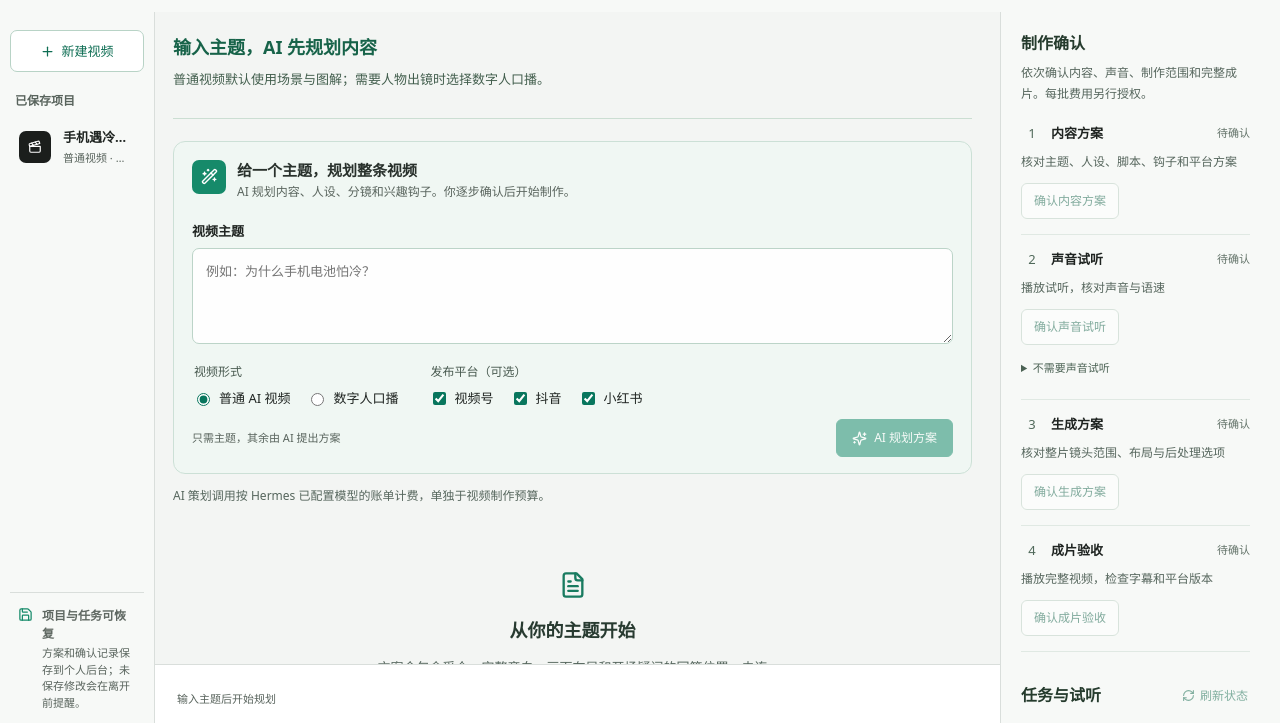
Test: Hermes 视频项目工作台 › 过期版本保存失败时保留编辑，提醒重新载入
Click the button "手机遇冷为什么掉电 普通视频 · 版本 2" at (77, 147), box top-left (10, 117), bottom-right (144, 177)
(page scrolled)
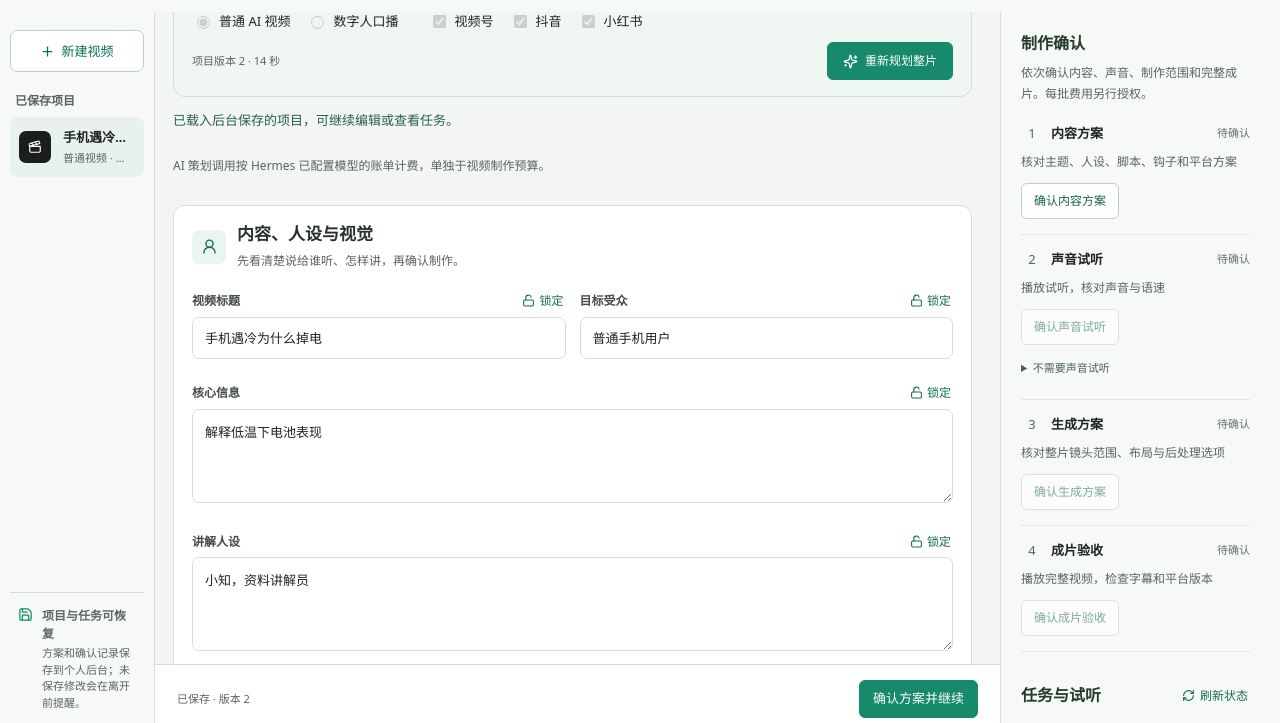
Expected: the field named "视频标题" is shown
Replace the text in the field named "视频标题" with "我的编辑标题" at (379, 338), box top-left (192, 317), bottom-right (566, 359)
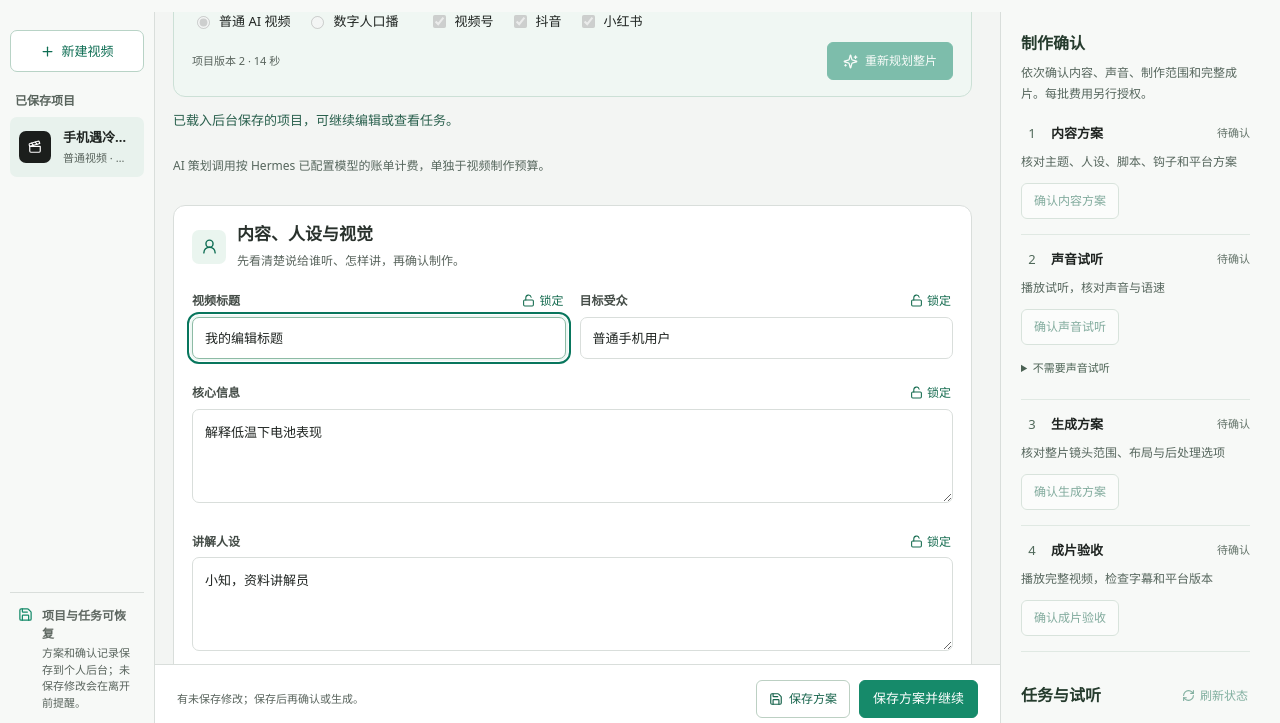
Click the button "保存方案" at (803, 698), box top-left (756, 680), bottom-right (850, 718)
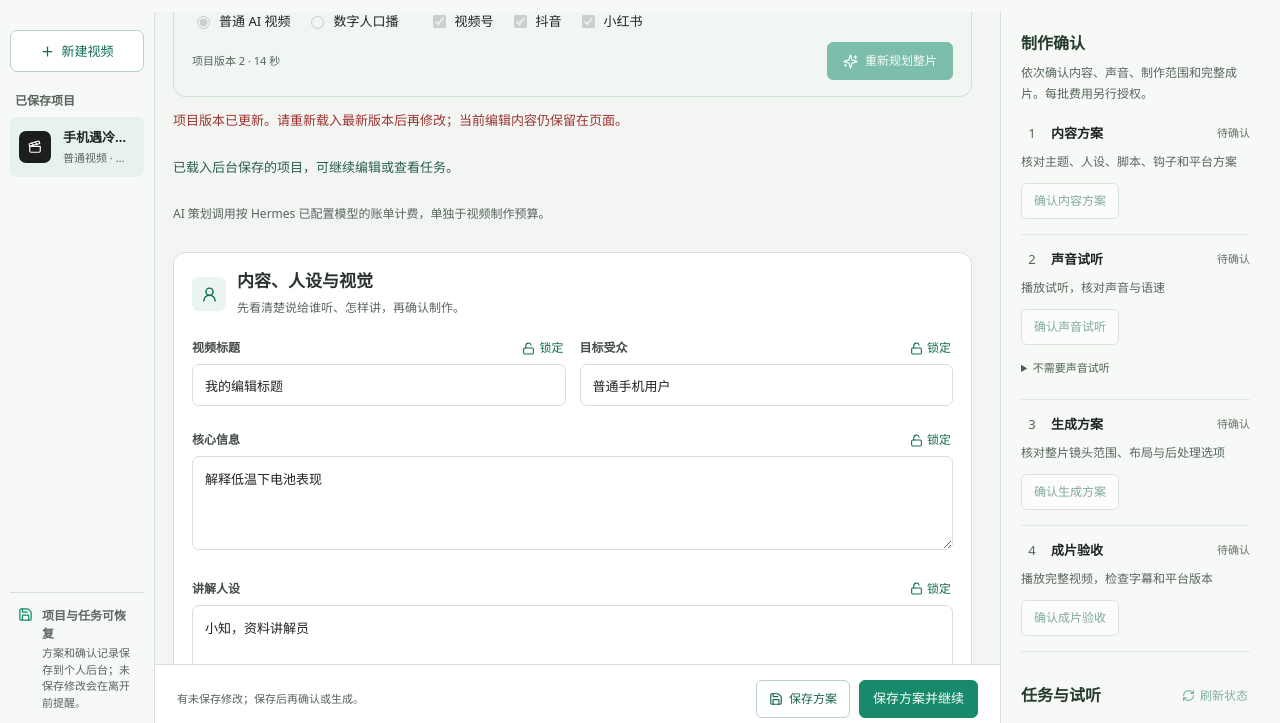
Expected: the message "项目版本已更新。请重新载入最新版本后再修改；当前编辑内容仍保留在页面。" is shown, top-left (173, 111), bottom-right (628, 129)
